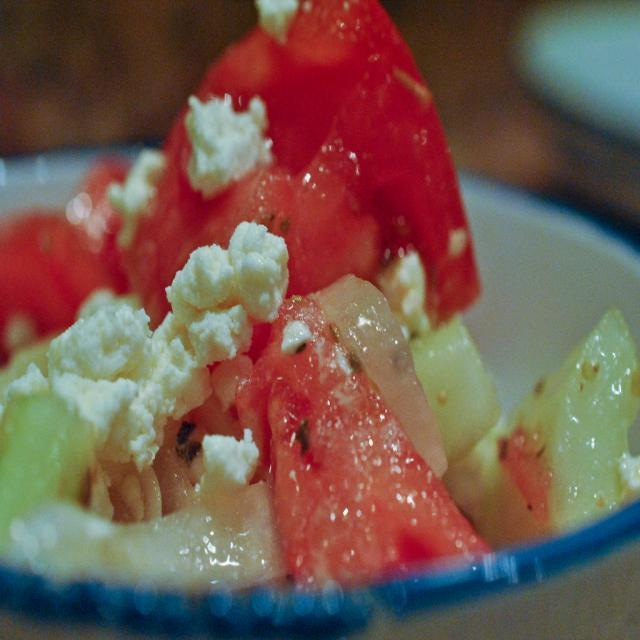Watermelon: (0, 0, 547, 590)
